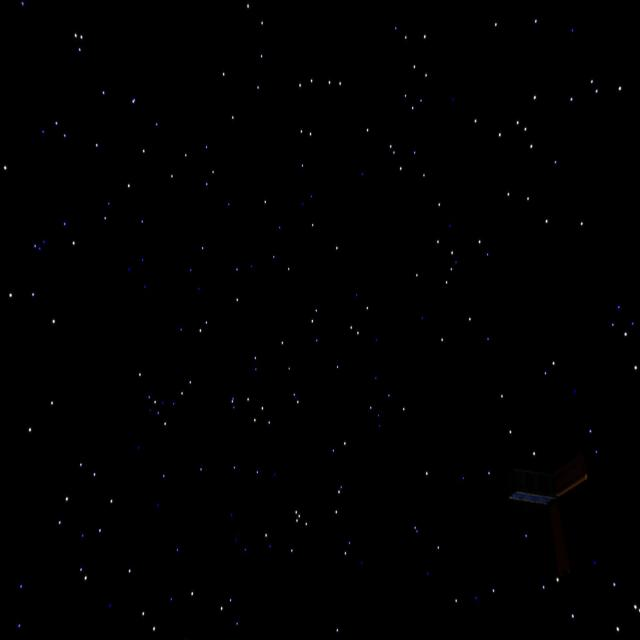satellite: (507, 440, 602, 567)
